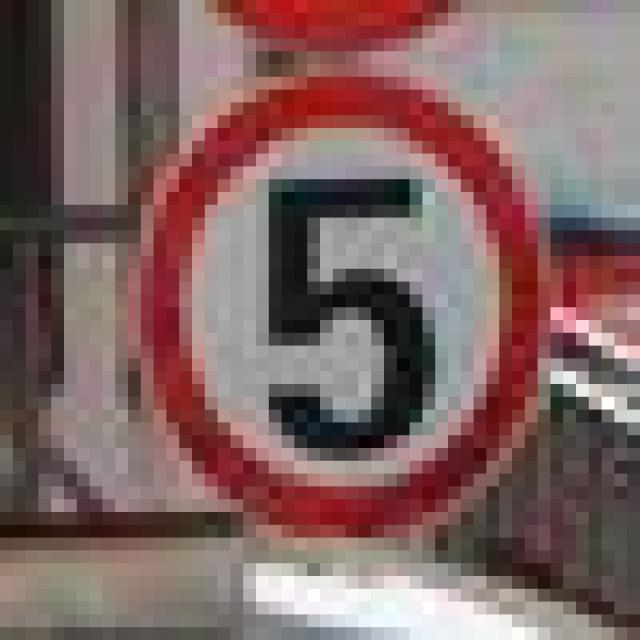SPEED_LIMIT_5: (128, 64, 538, 512)
